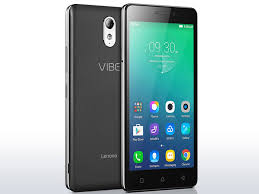lenovo: (118, 1, 201, 192)
